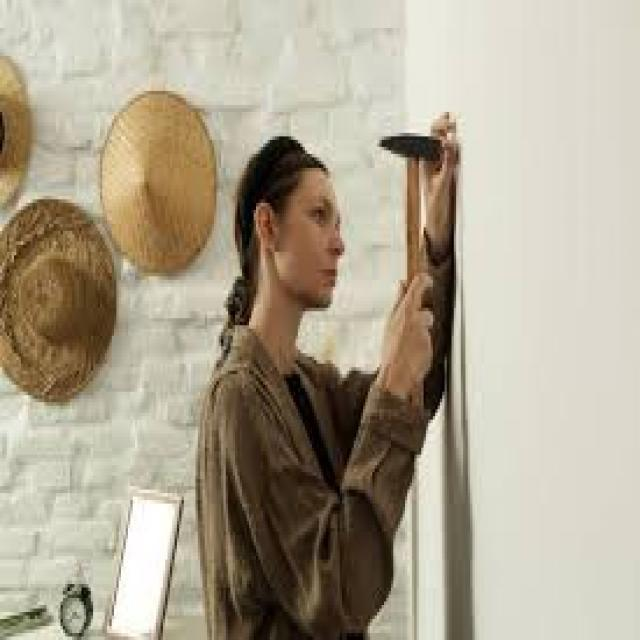hammer: (372, 121, 452, 446)
